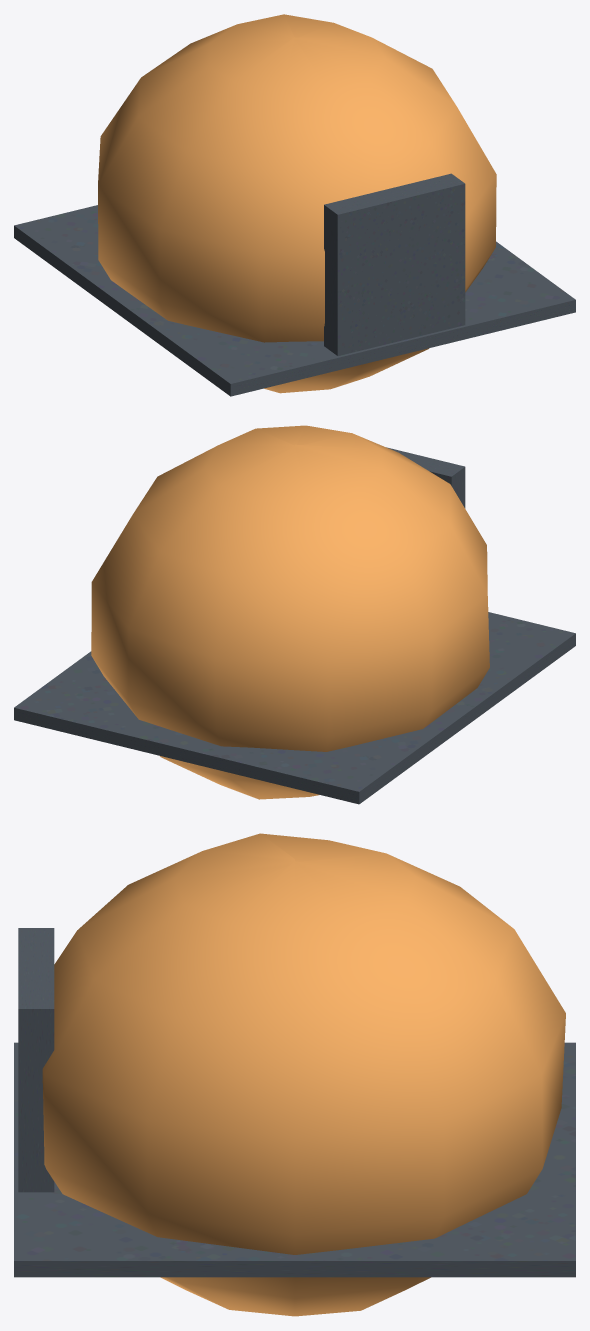
Rendered from prop_camping_tent.glb.
The picture shows the model from 3 angles, top to bottom: view 1: azimuth 30°, elevation 25°; view 2: azimuth 150°, elevation 25°; view 3: azimuth 270°, elevation 25°; orthographic projection. The views are drawn at different scales.
Parts seen in each view (by area): view 1: primary_color, ground_poles; view 2: primary_color, ground_poles; view 3: primary_color, ground_poles.
Part boxes in pixels (x1,y1,x2,y2): primary_color: (98, 14, 496, 393); ground_poles: (14, 173, 575, 396); primary_color: (91, 425, 489, 799); ground_poles: (14, 447, 575, 804); primary_color: (42, 833, 565, 1316); ground_poles: (14, 928, 575, 1277).
Size of the model in its own units: 2.31 by 2.13 by 2.5.
2 materials, 1 textured.
